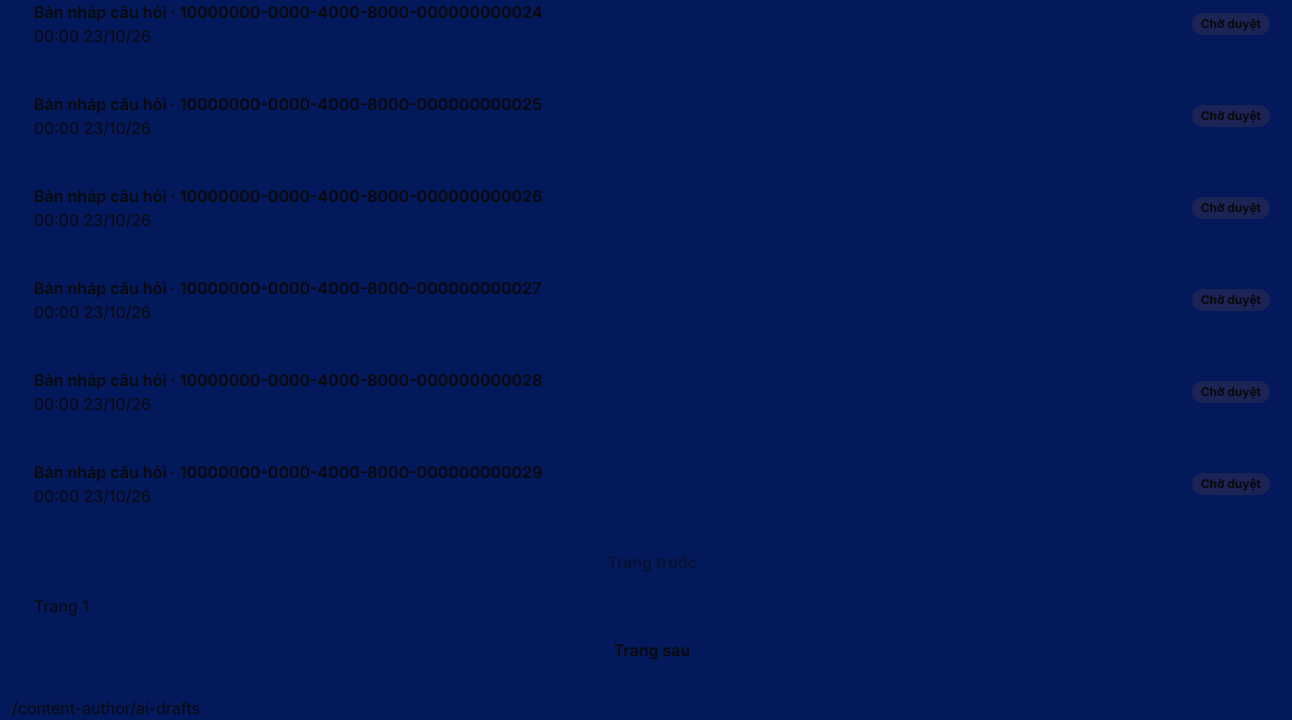
Test: AiDraftsPage › requests the next page without polling drafts on previous pages
(page scrolled)
Click the button "Trang sau". click: (652, 650)
box: [34,628,1270,672]
Wait 10000 ms
(page scrolled)
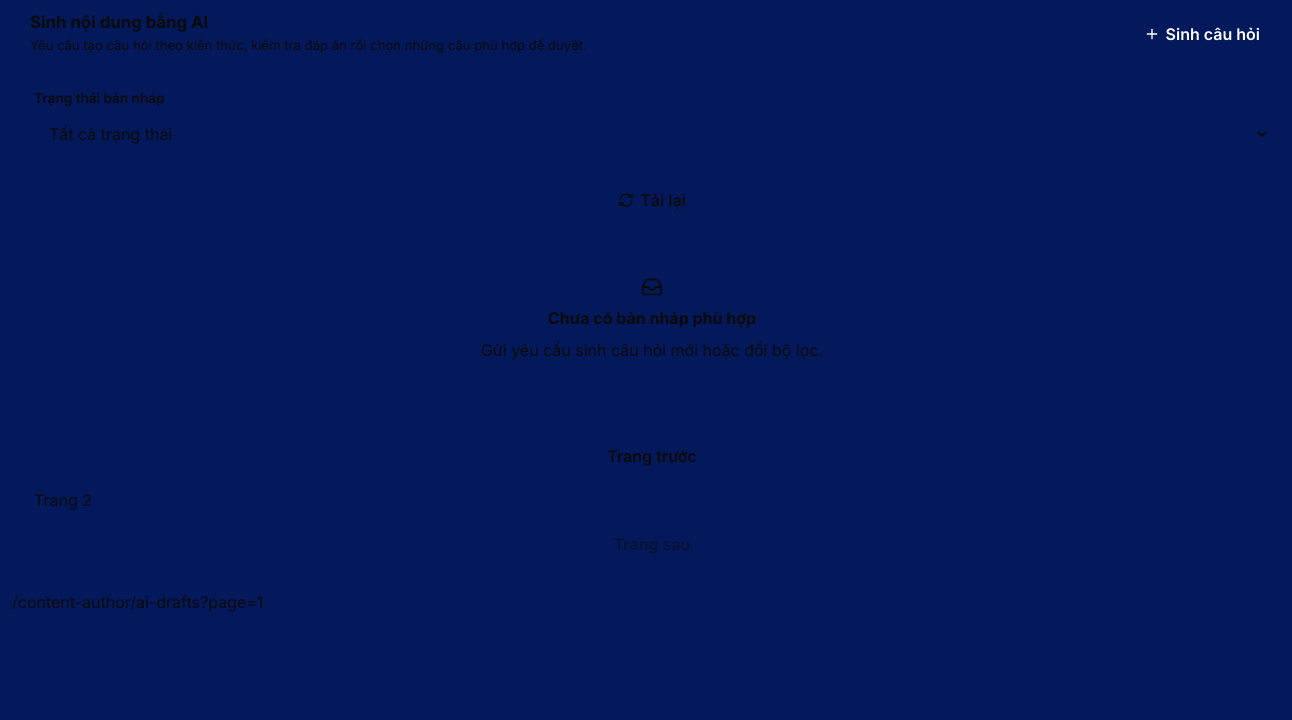
Now the text "Chưa có bản nháp phù hợp" is shown, box [548,308,756,328]
